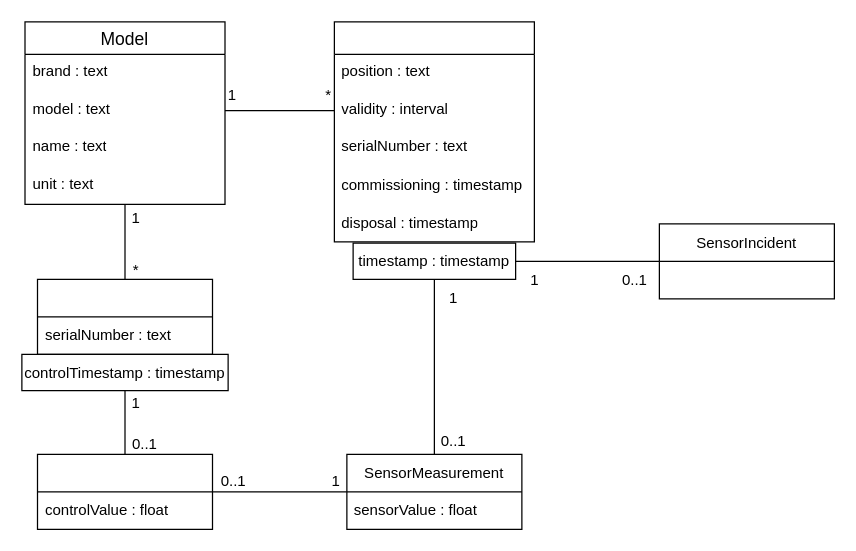
Some shapes in this 856 by 551 pixel diagram are drawn without their labels. Here are the shapes that lost their labels. From the top down, the box of each, then its label:
(333, 21, 534, 242): Sensor
(36, 278, 212, 354): Controller
(36, 453, 212, 529): ControlMeasurement
